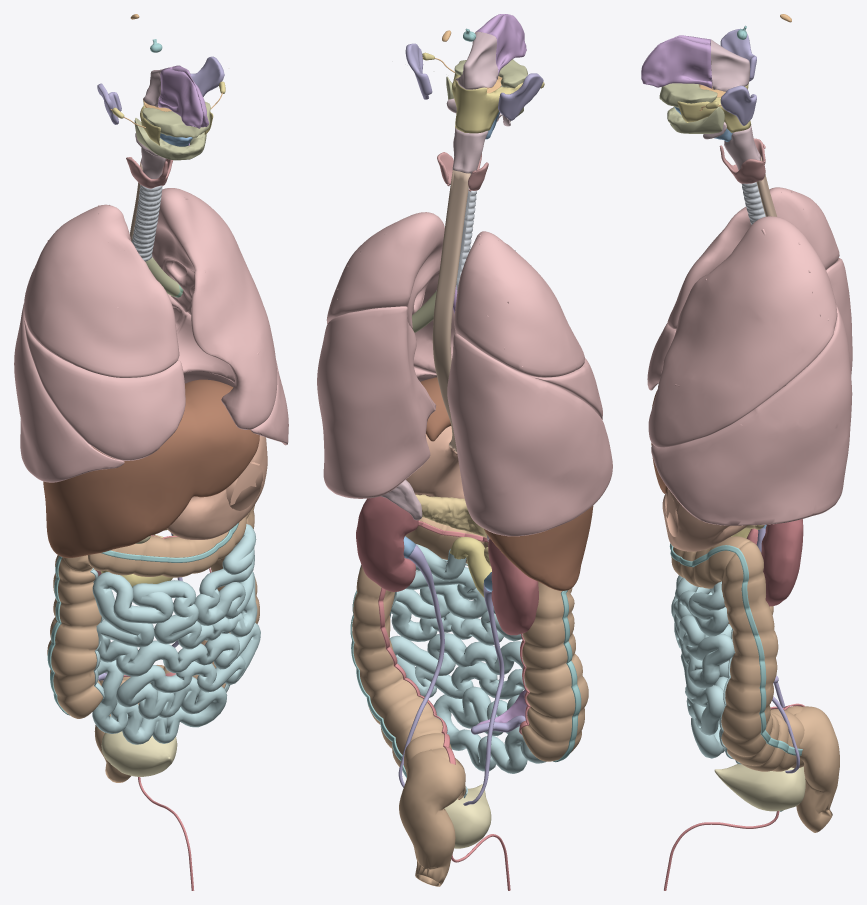
The model's file is organs.glb.
3 views of the same model, side by side, from view 1: azimuth 30°, elevation 25°; view 2: azimuth 150°, elevation 25°; view 3: azimuth 270°, elevation 25° (orthographic). The views are drawn at different scales.
Parts seen in each view (by area): view 1: Jejunum.001, Superior lobe of right lung.001, Liver.001, Superior lobe of left lung.001, Middle lobe of right lung.001, Ascending colon.001, Inferior lobe of right lung.001, Transverse colon.001, Stomach.001, Inferior lobe of left lung.001, Urinary bladder.001, Gingiva.001 (+7 smaller); view 2: Inferior lobe of right lung.001, Inferior lobe of left lung.001, Jejunum.001, Superior lobe of right lung.001, Superior lobe of left lung.001, Ascending colon.001, Descending colon.001, Sigmoid colon.001, Liver.001, Kidney.l.001, Oesophagus.001, Kidney.r.001 (+20 smaller); view 3: Superior lobe of left lung.001, Inferior lobe of left lung.001, Descending colon.001, Jejunum.001, Superior lobe of right lung.001, Sigmoid colon.001, Mucosa of nasal cavity.001, Urinary bladder.001, Kidney.l.001, Stomach.001, Gingiva.001, Mesocolic taenia.001 (+12 smaller).
Boxes of the visible parts, x1,y1,x2,y2 form: Jejunum.001: (92, 524, 260, 744); Superior lobe of right lung.001: (24, 204, 179, 377); Liver.001: (43, 379, 259, 557); Superior lobe of left lung.001: (152, 188, 277, 429); Middle lobe of right lung.001: (24, 319, 185, 460); Ascending colon.001: (47, 555, 102, 718); Inferior lobe of right lung.001: (14, 304, 124, 482); Transverse colon.001: (88, 511, 250, 577); Stomach.001: (167, 435, 267, 539); Inferior lobe of left lung.001: (168, 294, 288, 445); Urinary bladder.001: (101, 731, 177, 776); Gingiva.001: (134, 101, 210, 160); Inferior lobe of right lung.001: (447, 333, 612, 536); Inferior lobe of left lung.001: (317, 306, 436, 498); Jejunum.001: (390, 544, 546, 773); Superior lobe of right lung.001: (454, 231, 584, 377); Superior lobe of left lung.001: (326, 212, 455, 373); Ascending colon.001: (521, 581, 588, 761); Descending colon.001: (352, 565, 465, 799); Sigmoid colon.001: (399, 749, 465, 886); Liver.001: (420, 377, 593, 590); Kidney.l.001: (356, 496, 418, 591); Oesophagus.001: (432, 170, 470, 452); Kidney.r.001: (488, 538, 538, 635); Superior lobe of left lung.001: (648, 216, 837, 447); Inferior lobe of left lung.001: (651, 305, 852, 525); Descending colon.001: (721, 541, 804, 771); Jejunum.001: (671, 575, 734, 758); Superior lobe of right lung.001: (667, 187, 839, 329); Sigmoid colon.001: (794, 706, 839, 832); Mucosa of nasal cavity.001: (641, 35, 712, 88); Urinary bladder.001: (714, 764, 805, 811); Kidney.l.001: (761, 519, 803, 606); Stomach.001: (662, 489, 747, 551); Gingiva.001: (659, 83, 724, 133); Mesocolic taenia.001: (669, 543, 802, 755).
Bounding box in the file's own units: 0.261 × 0.8748 × 0.1913.
